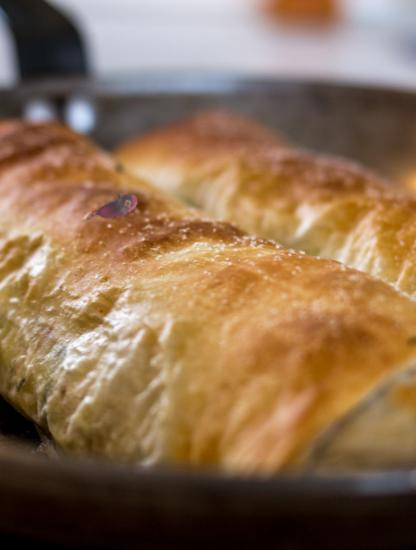Banana: (79, 177, 139, 237)
